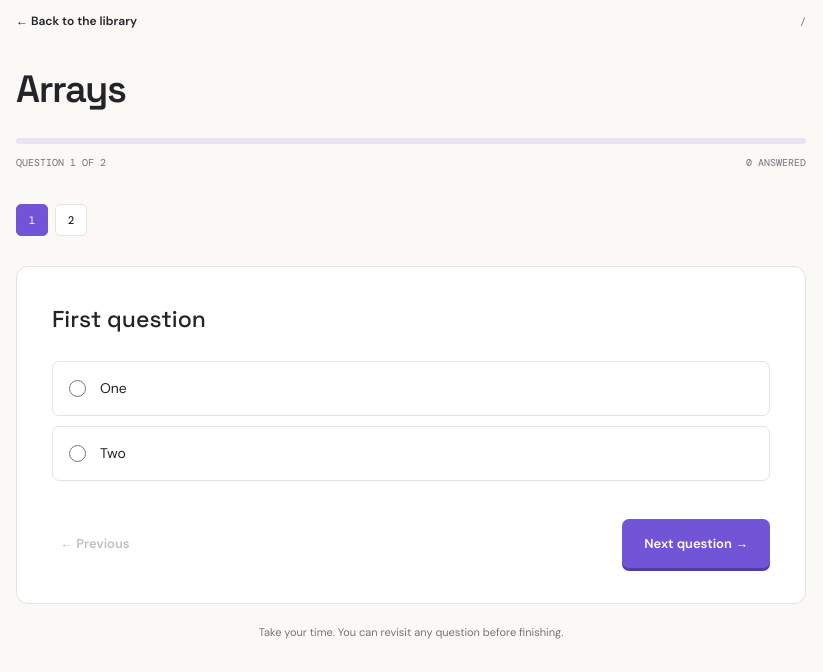
Test: quiz returns to unanswered questions and submits exactly one answer per question
Expected: the text "First question" is shown, left=52, top=302, right=206, bottom=336
Click the button "Next question →".
click(696, 543)  # box left=622, top=518, right=770, bottom=568
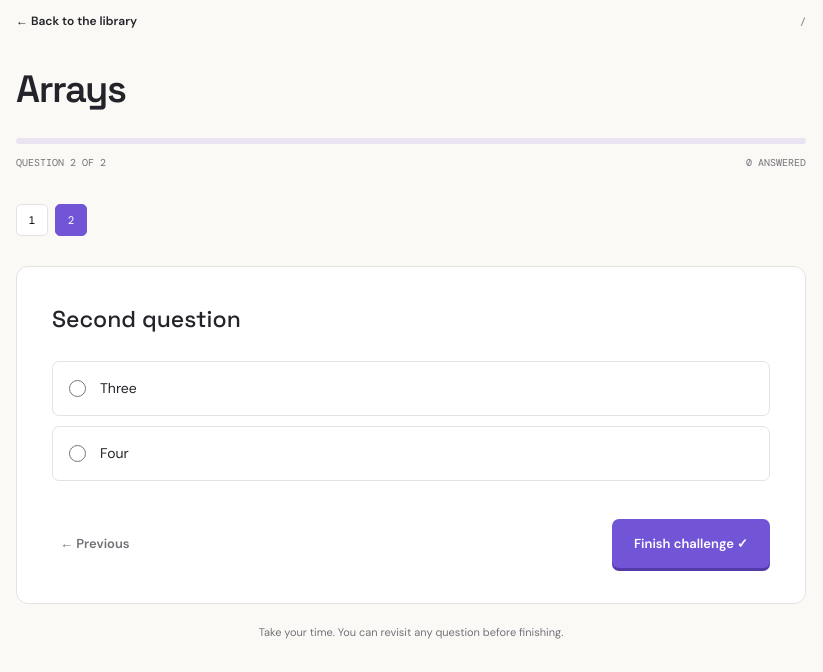
Click the radio button labelled "Three".
click(78, 388)  # box left=69, top=380, right=86, bottom=396
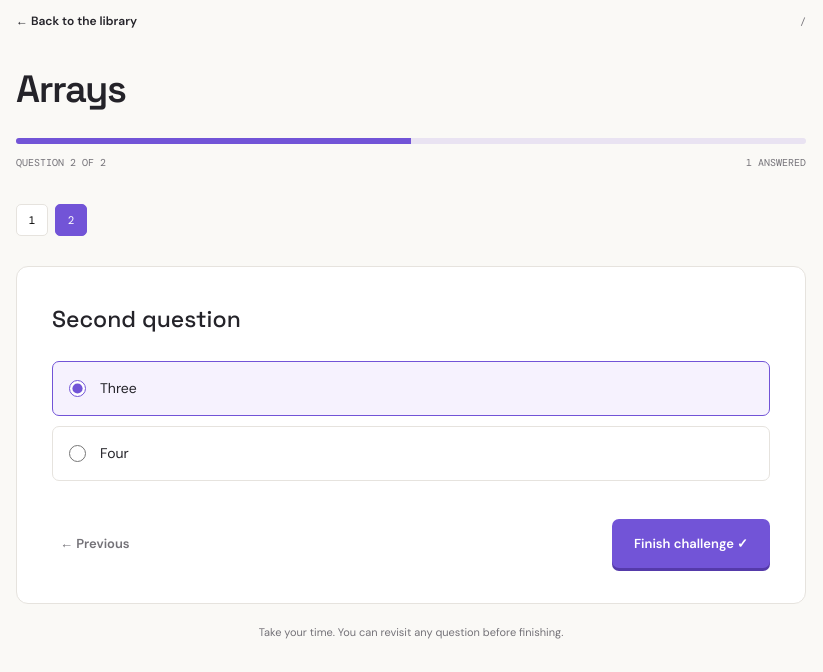
Click the button "Finish challenge ✓".
click(691, 543)  # box left=612, top=518, right=770, bottom=568
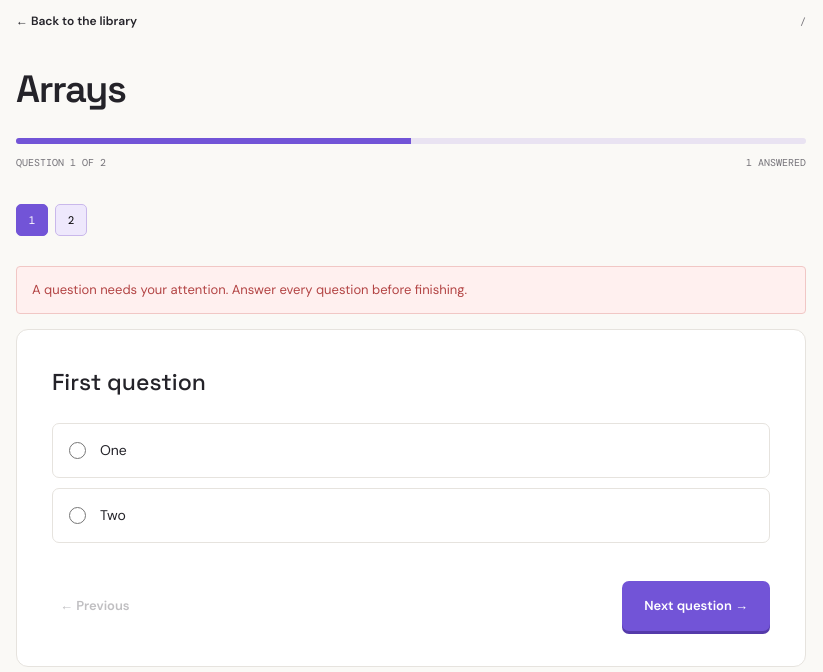
Now the message shows "A question needs your attention", box left=32, top=281, right=467, bottom=298
Click the radio button labelled "One".
click(78, 450)  # box left=69, top=442, right=86, bottom=459
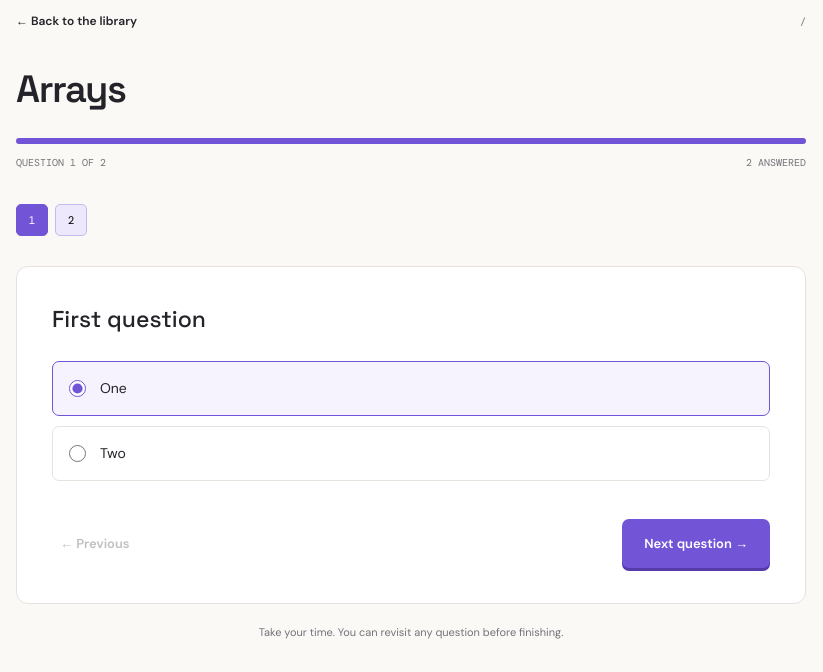
Click the button "Next question →".
click(696, 543)  # box left=622, top=518, right=770, bottom=568
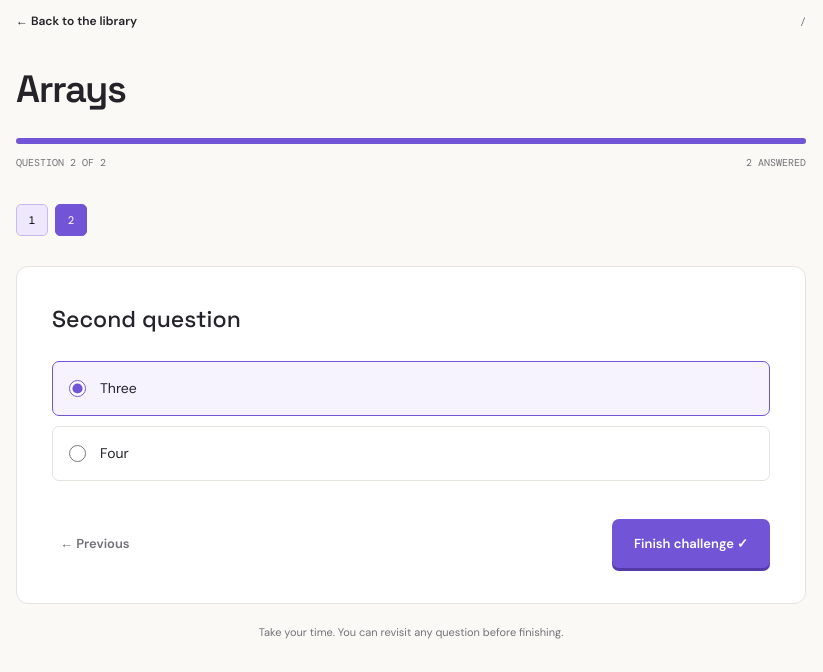
Expected: the radio button labelled "Three" is checked, left=69, top=380, right=86, bottom=396
Click the button "Finish challenge ✓".
click(691, 543)  # box left=612, top=518, right=770, bottom=568
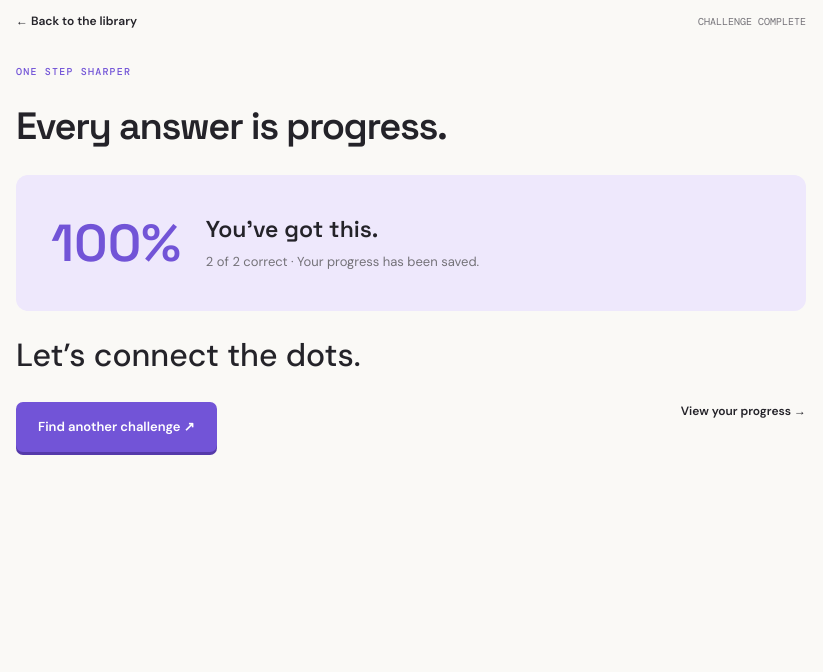
Now the text "100%" is shown, box left=51, top=210, right=181, bottom=276
